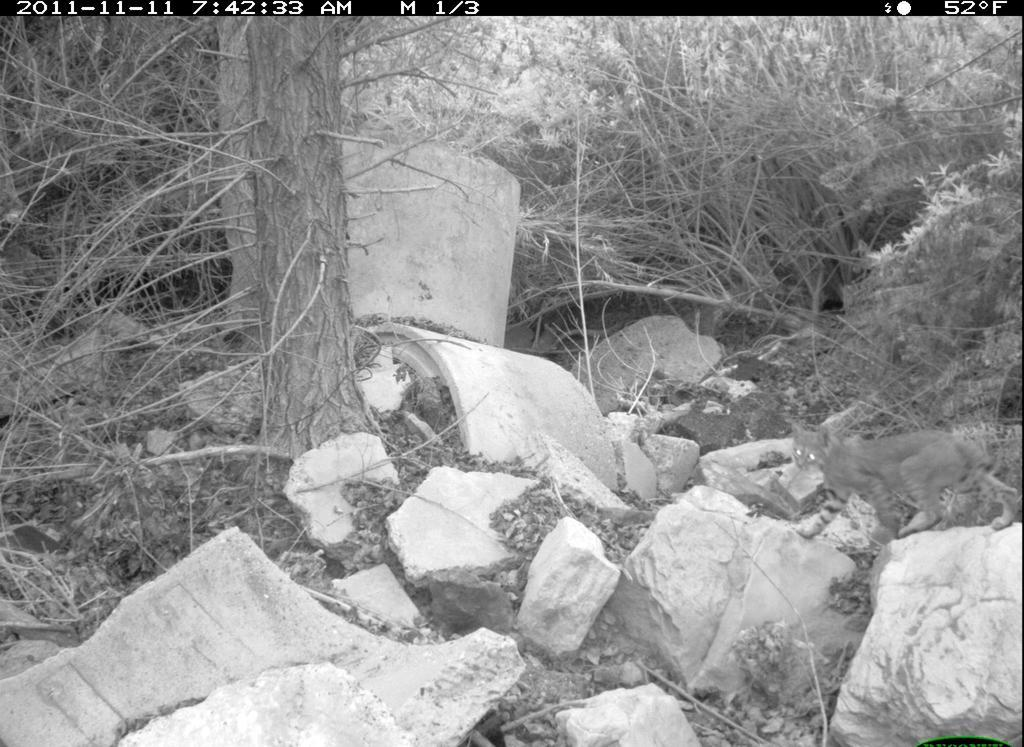bobcat: (772, 410, 1022, 553)
